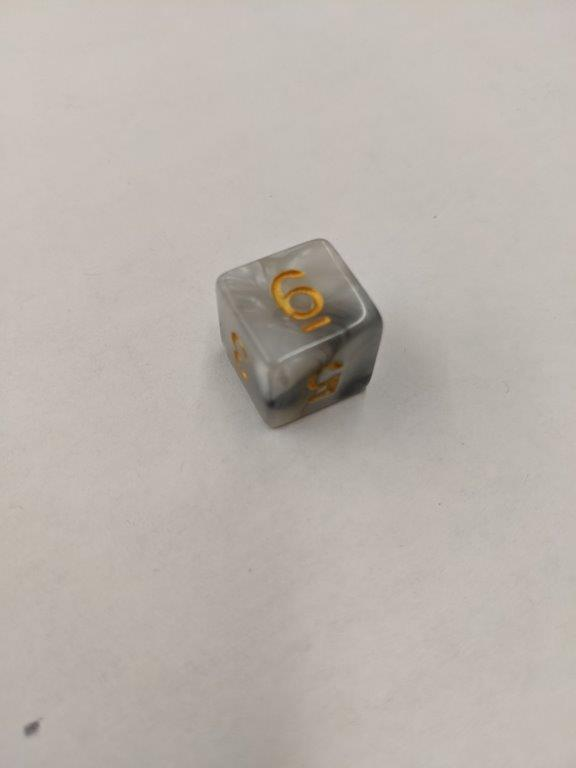d6-6: (216, 238, 384, 429)
